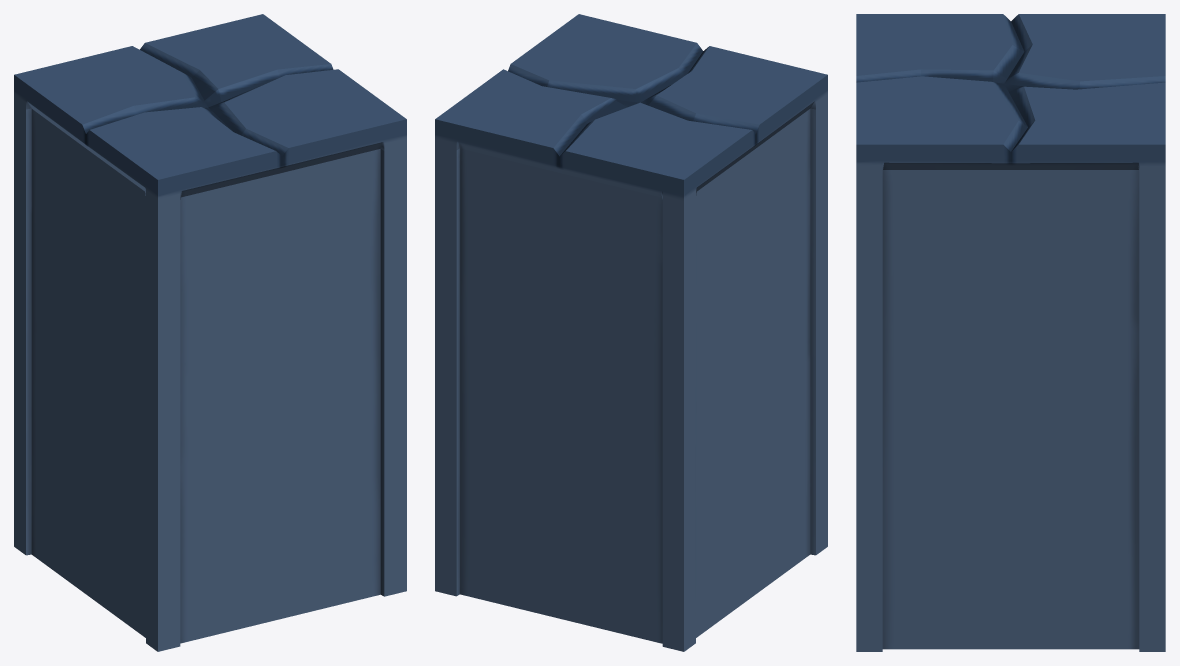
The model's file is TileV3Tall.fbx.
The picture shows the model from 3 angles, left to right: view 1: azimuth 30°, elevation 25°; view 2: azimuth 150°, elevation 25°; view 3: azimuth 270°, elevation 25°; orthographic projection. The views are drawn at different scales.
Visible parts, largest first — view 1: tile; view 2: tile; view 3: tile.
Part boxes in pixels (box(x1,y1,x2,y2)): tile: box(14, 14, 406, 651); tile: box(435, 14, 827, 651); tile: box(856, 14, 1165, 651).
Size of the model in its own units: 5 by 9.06 by 5.
